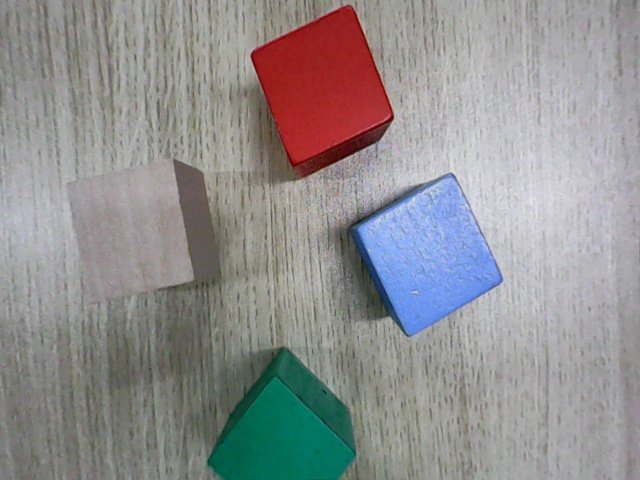upside of big cube: (355, 171, 505, 341), (250, 5, 395, 167), (66, 156, 195, 305), (205, 374, 357, 479)
